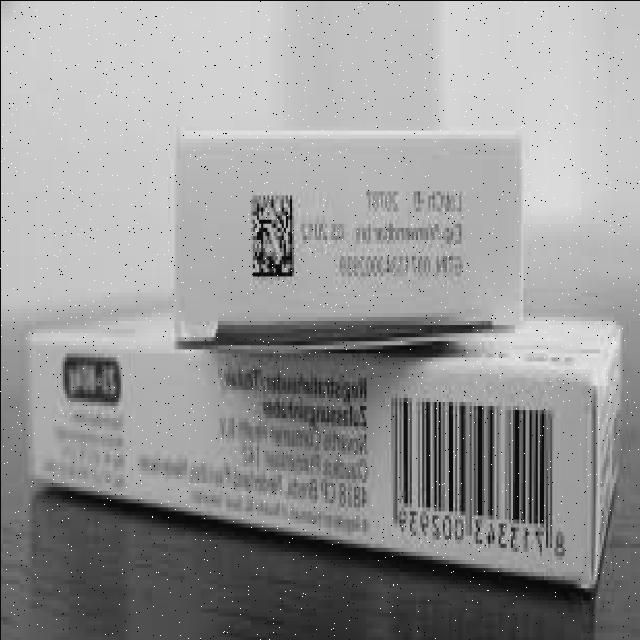datamatrix: (248, 182, 297, 284)
